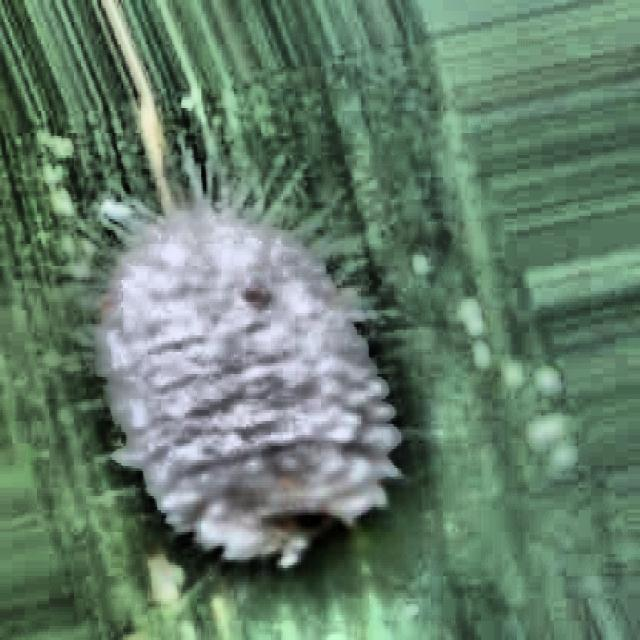Mealy-bug: (41, 104, 459, 640)
